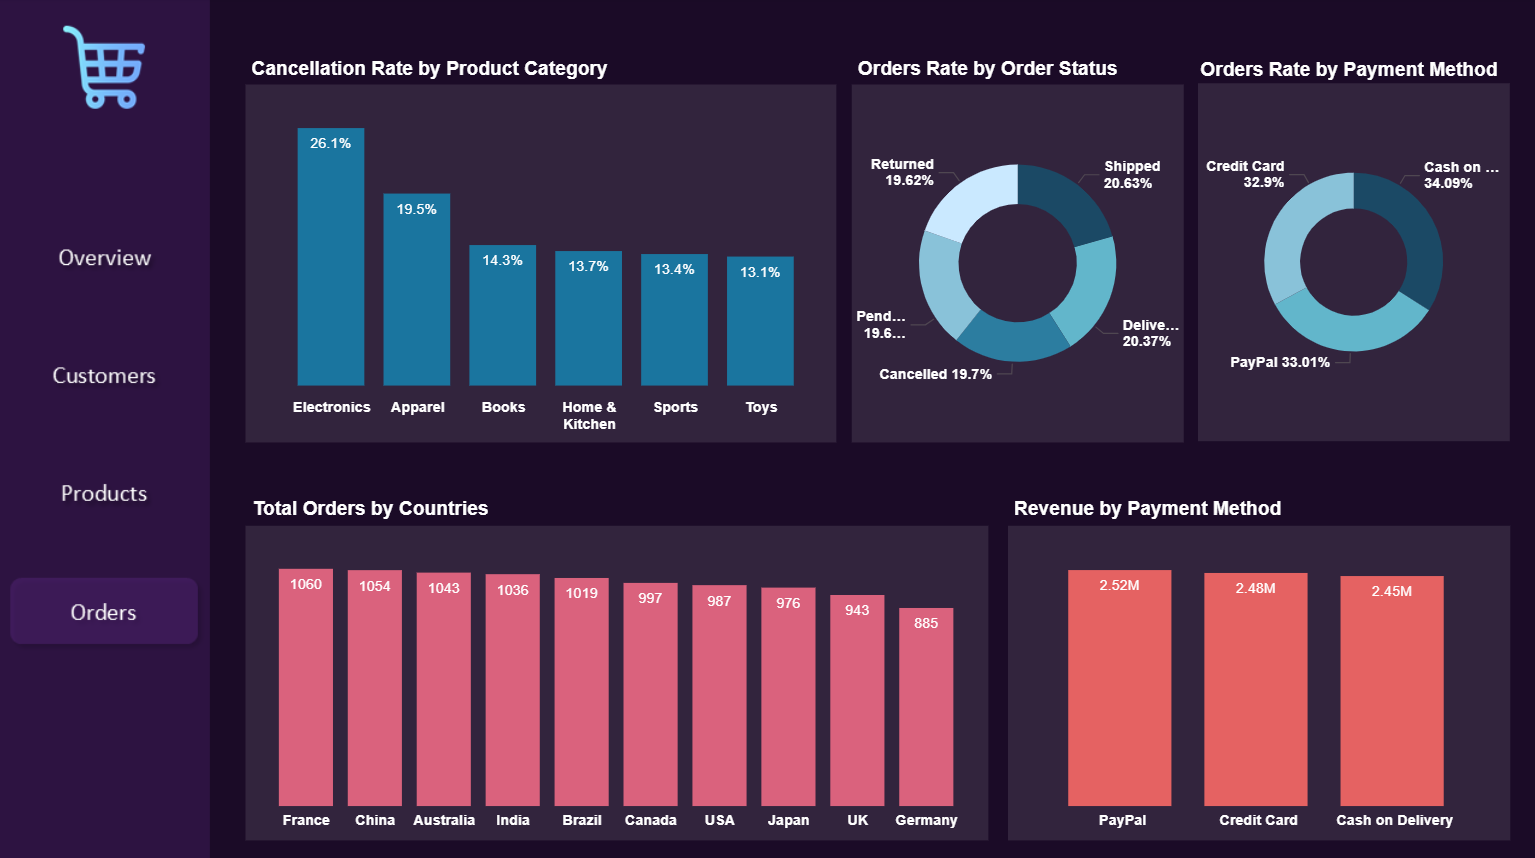

Layout of this report page (visuals, bound fields, positions):
{"tool":"powerbi","page":{"name":"Orders","canvas":[1280,720],"ordinal":3},"visuals":[{"type":"actionButton","box":[11.2,286.2,156.2,57.5],"z":0},{"type":"actionButton","box":[11.2,382.5,156.2,57.5],"z":1000},{"type":"actionButton","box":[11.2,190,156.2,57.5],"z":2000},{"type":"donutChart","fields":{"Category":["customers.order_status"],"Y":["CountNonNull(customers.order_status)"]},"box":[710,72.5,276.2,297.5],"z":3000},{"type":"columnChart","fields":{"Y":["CountNonNull(customers.order_status)"],"Category":["customers.category"]},"box":[206.2,72.5,491.2,297.5],"z":4000},{"type":"donutChart","fields":{"Category":["customers.payment_method"],"Y":["CountNonNull(customers.order_id)"]},"box":[997.7,72.1,259.3,297.7],"z":5000},{"type":"clusteredColumnChart","fields":{"Y":["customers.Total Revenue"],"Category":["customers.payment_method"]},"box":[840,440,417.5,261.2],"z":6000},{"type":"columnChart","fields":{"Category":["customers.country"],"Y":["customers.Total Orders"]},"box":[206.2,440,617.5,261.2],"z":7000},{"type":"textbox","box":[205.6,45.6,315.6,34.4],"z":8000},{"type":"textbox","box":[206.7,411.1,315.6,34.4],"z":9000},{"type":"textbox","box":[710,46,230,35],"z":10000},{"type":"textbox","box":[994.2,46.5,269.8,34.9],"z":11000},{"type":"textbox","box":[840,411.2,316.2,35],"z":12000}]}

Visuals, with their boxes in screenshot pixels (x1, y1, x2, y2), scaled from the page's 1280x720 canvas onto the 1535x858 screenshot:
actionButton: 13, 341, 201, 410
actionButton: 13, 456, 201, 524
actionButton: 13, 226, 201, 295
donutChart - customers.order_status x CountNonNull(customers.order_status): 851, 86, 1183, 441
columnChart - CountNonNull(customers.order_status) x customers.category: 247, 86, 836, 441
donutChart - customers.payment_method x CountNonNull(customers.order_id): 1196, 86, 1507, 441
clusteredColumnChart - customers.Total Revenue x customers.payment_method: 1007, 524, 1508, 836
columnChart - customers.country x customers.Total Orders: 247, 524, 988, 836
textbox: 247, 54, 625, 95
textbox: 248, 490, 626, 531
textbox: 851, 55, 1127, 97
textbox: 1192, 55, 1516, 97
textbox: 1007, 490, 1387, 532
